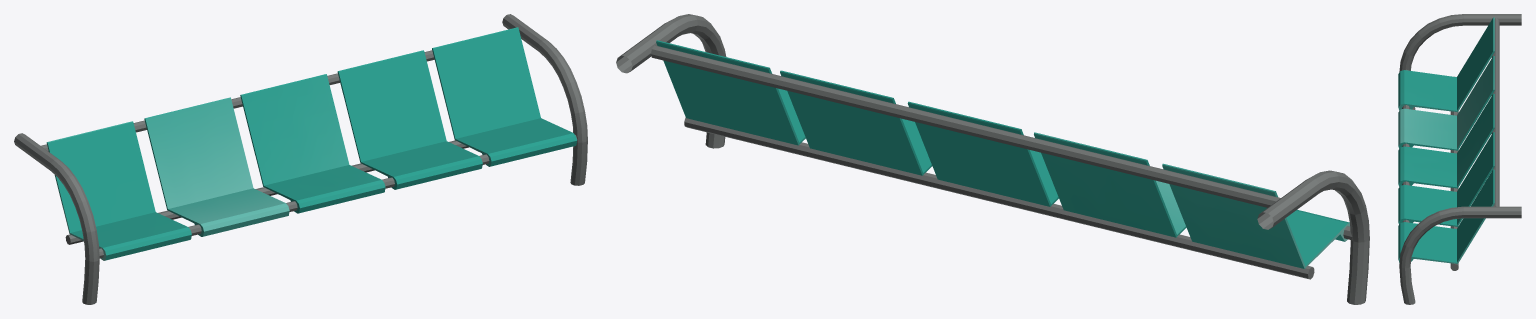
Rendered from Banc.fbx.
The picture shows the model from 3 angles, left to right: view 1: azimuth 30°, elevation 25°; view 2: azimuth 150°, elevation 25°; view 3: azimuth 270°, elevation 25°; orthographic projection. The views are drawn at different scales.
Parts seen in each view (by area): view 1: MSH_Banc; view 2: MSH_Banc; view 3: MSH_Banc.
Boxes of the visible parts, <box> form: MSH_Banc: <box>14,14,587,304</box>; MSH_Banc: <box>616,14,1369,304</box>; MSH_Banc: <box>1398,14,1521,304</box>.
Bounding box in the file's own units: 19.41 × 4.42 × 5.12.
